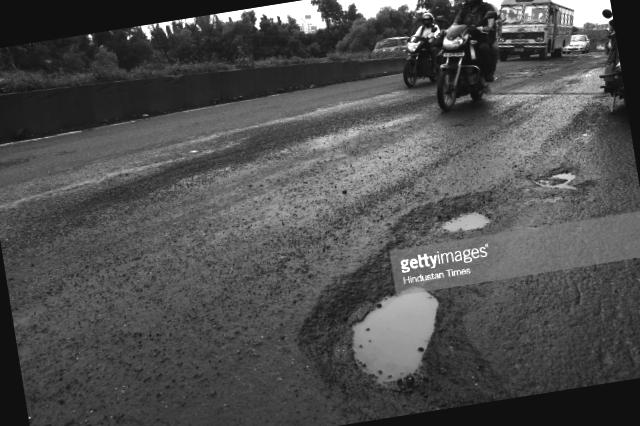Pothole: (271, 174, 527, 426), (526, 145, 604, 207)
